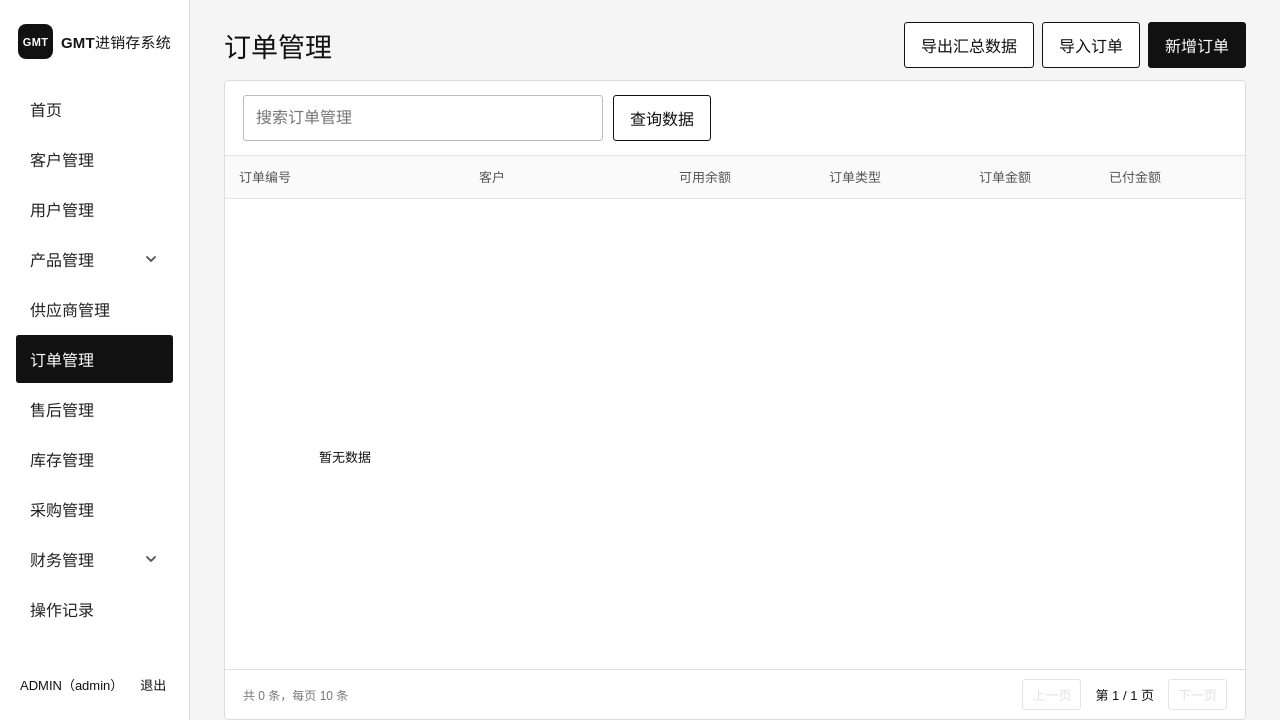
Test case: 连续导航和浏览器地址状态 › ADMIN 用户的产品资料支持导入与手工新增
This screenshot has width=1280, height=720.
Click the button "产品管理": x=94, y=259 [16,235,173,283]
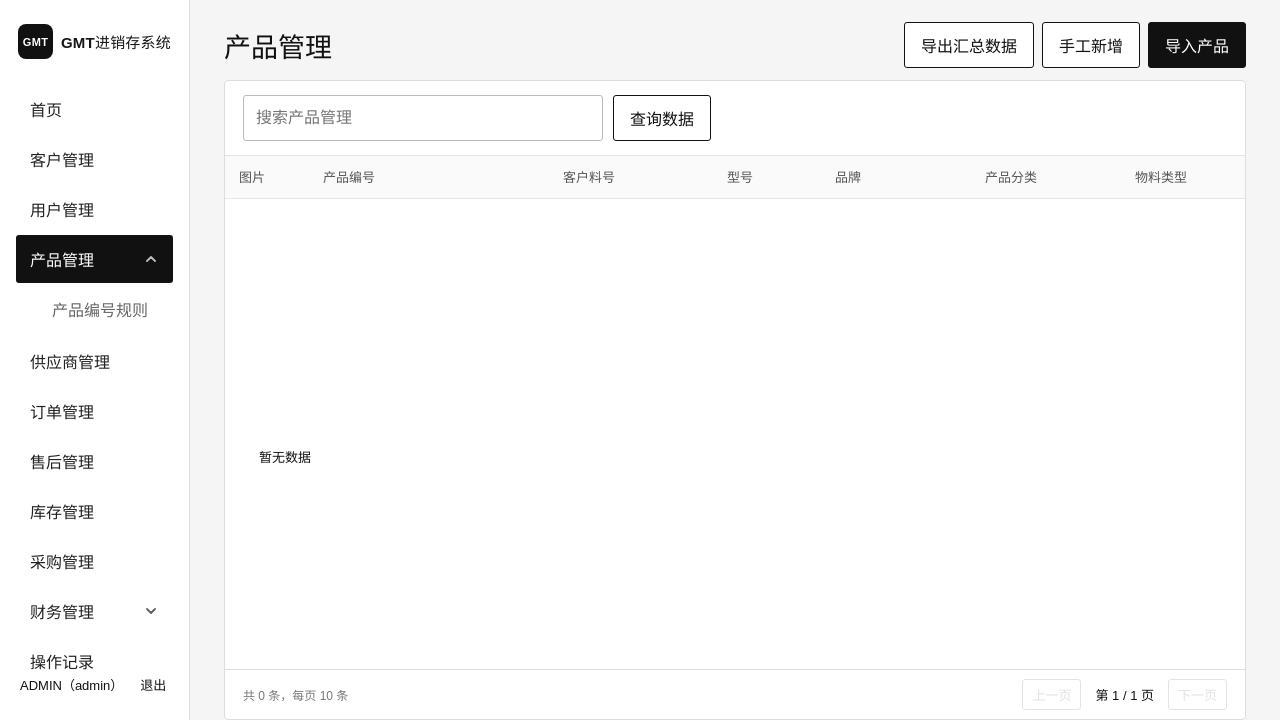
Now the text "导入产品" is shown
Now the text "手工新增" is shown, box [1042,22,1140,68]
Click the button with test id "primary-action": x=1197, y=45 [1148,22,1246,68]
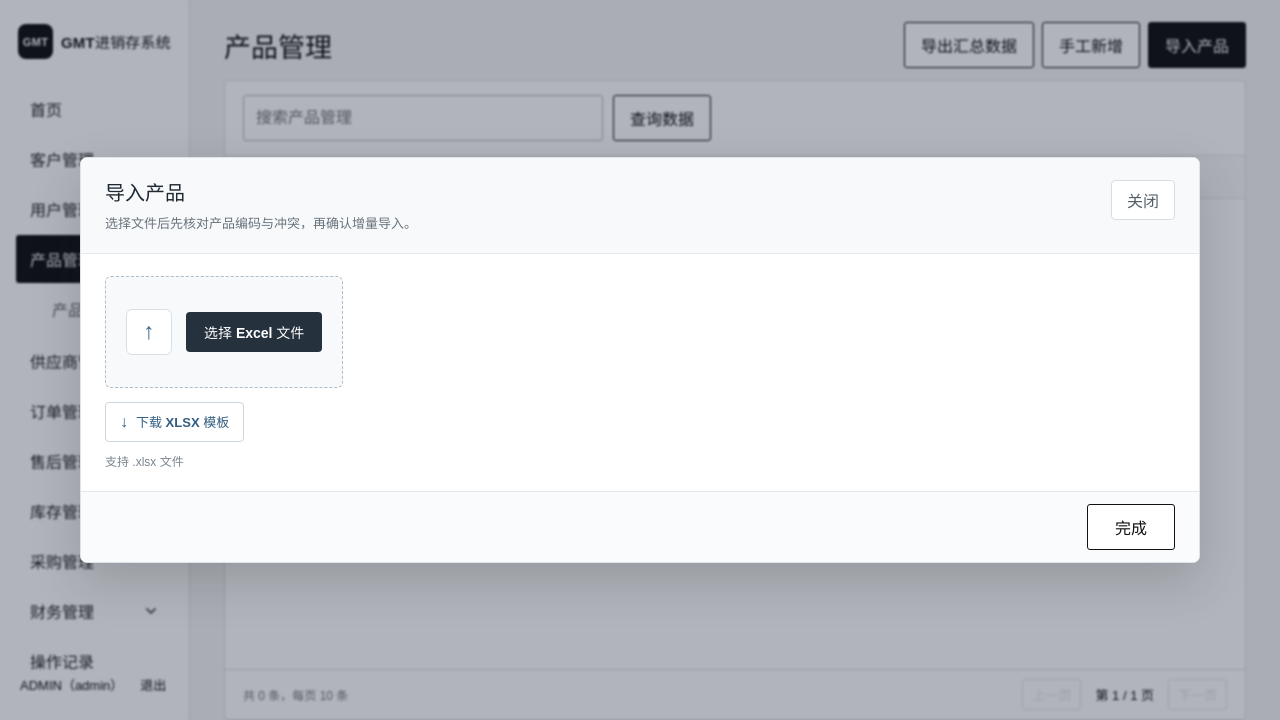
Now the element named "Excel 导入面板" shows "导入产品", box [105,182,185,204]
